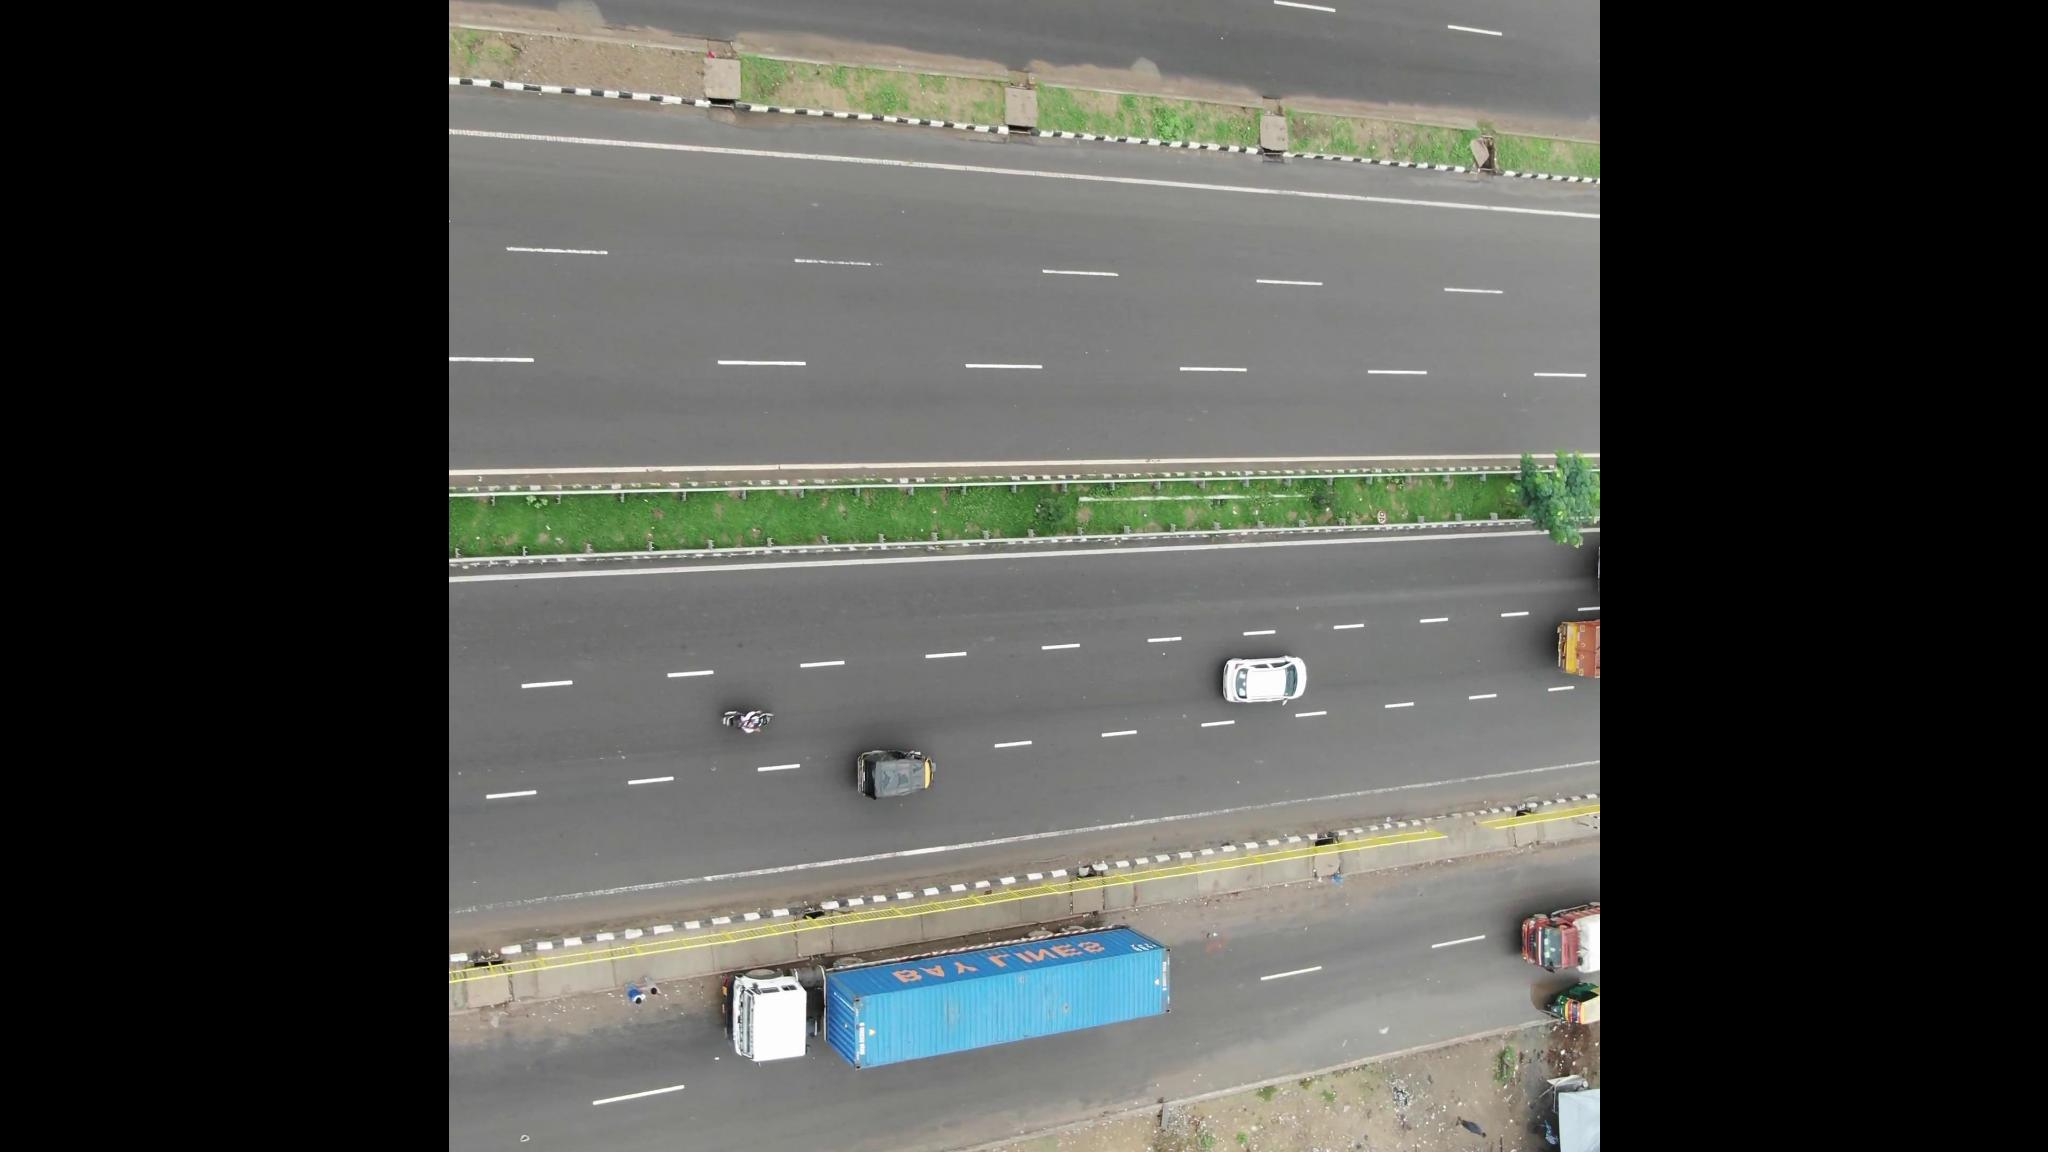Waterlogging: (1165, 979, 1530, 1089)
